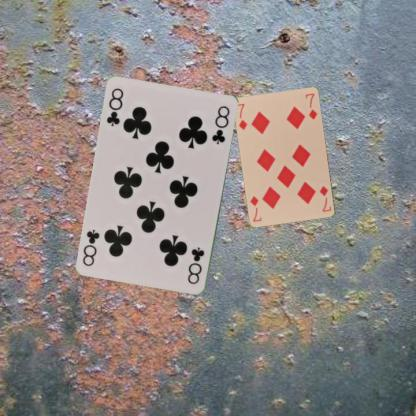7d: (234, 101, 249, 131), (317, 184, 332, 213)
8c: (185, 244, 206, 286), (104, 86, 125, 128)
